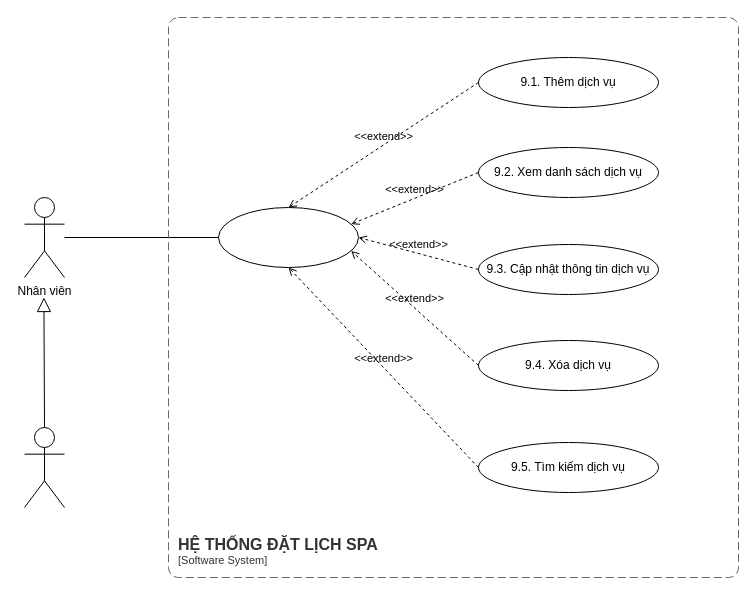
The diagram is 756 pixels wide and 595 high, and some of its shapes have lost their labels. The box of each missing label's shape, as (x1, y1, x2, y2) in pixels:
9. Quản lý dịch vụ: (218, 206, 358, 268)
Quản lý: (24, 426, 64, 508)
